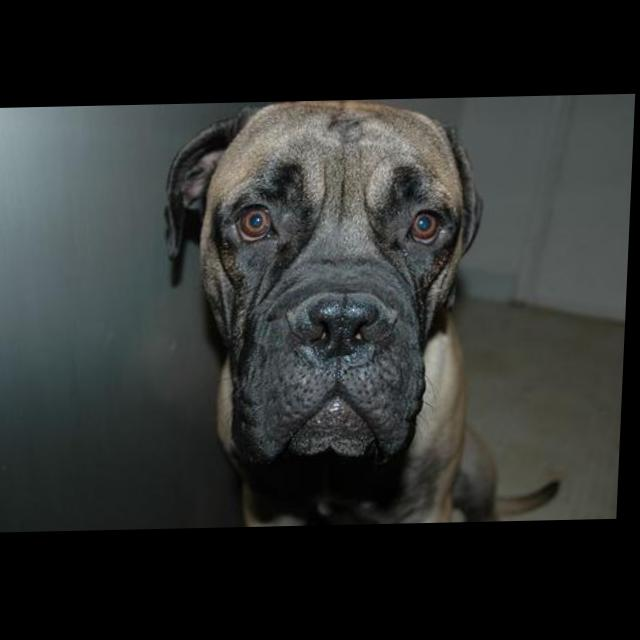bullmastiff: (155, 98, 581, 530)
